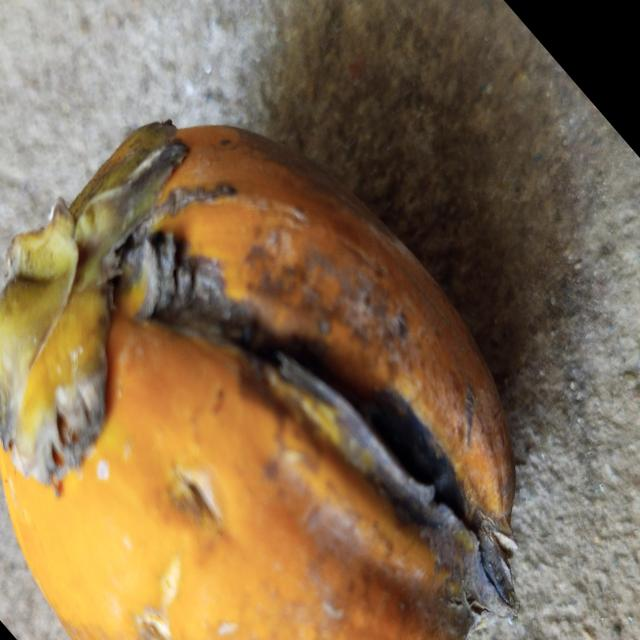damaged: (0, 121, 516, 640)
